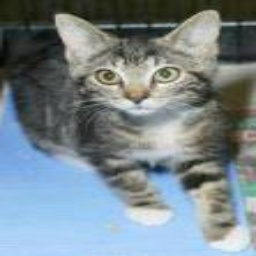cat: (0, 12, 250, 249)
